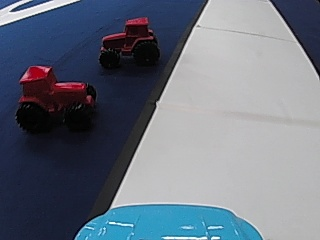tractor: (12, 62, 99, 133), (98, 15, 162, 68)
